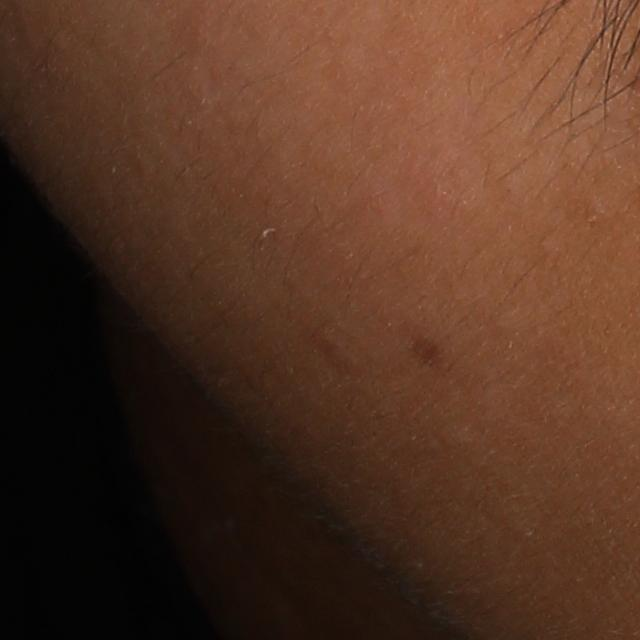nevus: (395, 323, 440, 370)
